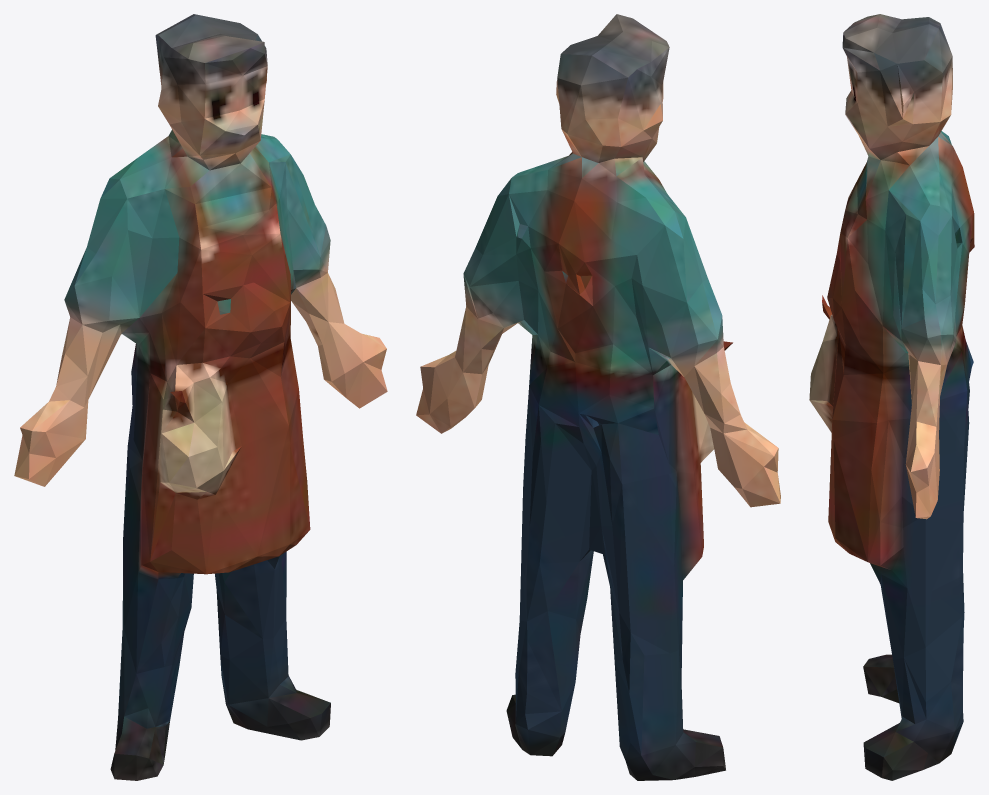
The model's file is habitant-loin.glb.
3 renders of one model, left to right at view 1: azimuth 30°, elevation 25°; view 2: azimuth 150°, elevation 25°; view 3: azimuth 270°, elevation 25°, orthographic. The views are drawn at different scales.
Visible parts, largest first — view 1: habitant; view 2: habitant; view 3: habitant.
Boxes of the visible parts, x1,y1,x2,y2 form: habitant: (14, 14, 387, 780); habitant: (416, 14, 780, 780); habitant: (809, 14, 974, 780).
Size of the model in its own units: 0.5338 by 1.01 by 0.2132.
1 material, 1 textured.
